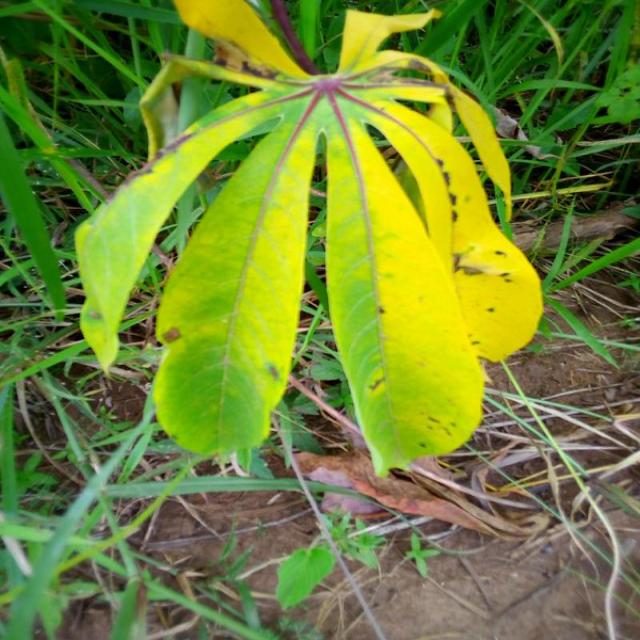cassava leaf: (74, 0, 544, 478), (151, 90, 318, 460), (322, 103, 486, 478)
